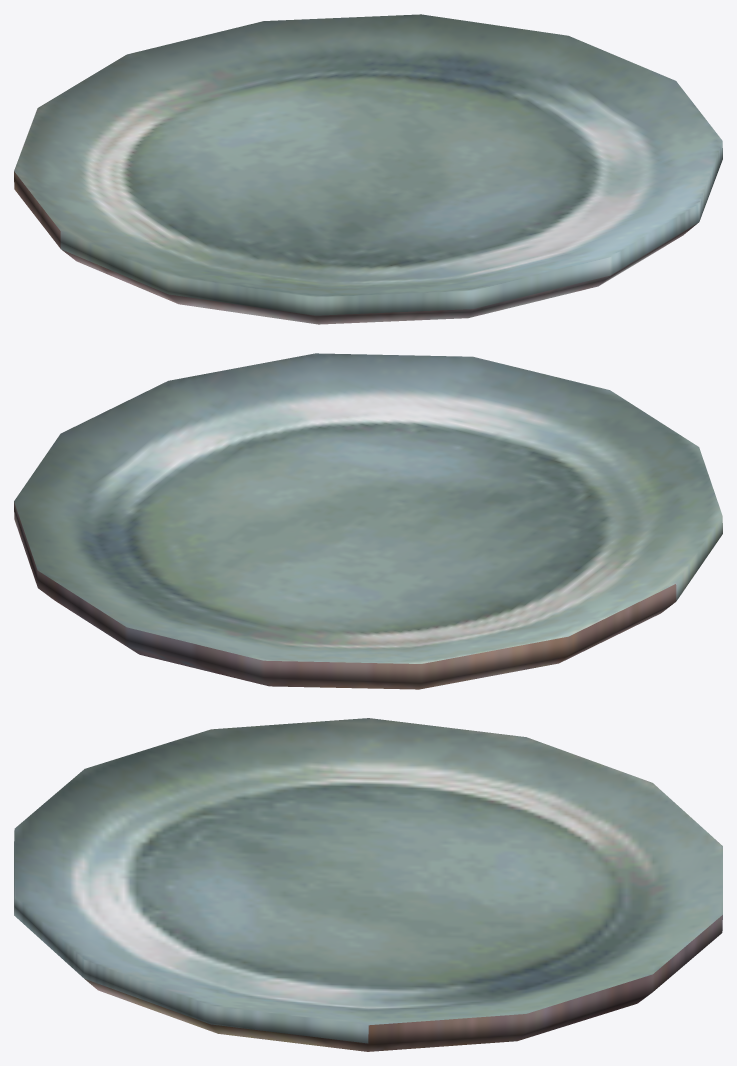
The model's file is plate.fbx.
3 renders of one model, top to bottom at view 1: azimuth 30°, elevation 25°; view 2: azimuth 150°, elevation 25°; view 3: azimuth 270°, elevation 25°, orthographic. The views are drawn at different scales.
Parts seen in each view (by area): view 1: U3DMesh; view 2: U3DMesh; view 3: U3DMesh.
Part boxes in pixels (left/top/right/bottom): U3DMesh: left=14, top=14, right=722, bottom=324; U3DMesh: left=14, top=353, right=722, bottom=689; U3DMesh: left=14, top=718, right=722, bottom=1051.
Bounding box in the file's own units: 0.5754 × 0.0648 × 0.5612.
Materials: 1 (1 with a texture image).
